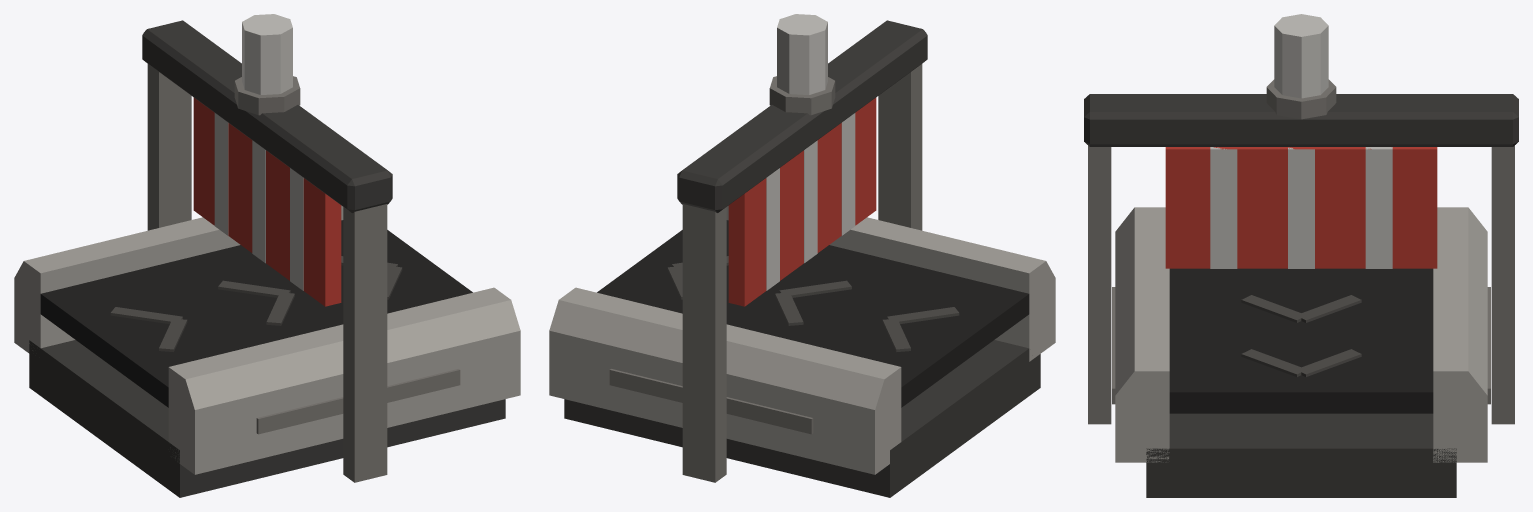
Rendered from gate.fbx.
3 views of the same model, side by side, from view 1: azimuth 30°, elevation 25°; view 2: azimuth 150°, elevation 25°; view 3: azimuth 270°, elevation 25° (orthographic). The views are drawn at different scales.
Visible parts, largest first — view 1: gate; view 2: gate; view 3: gate.
Boxes of the visible parts, x1,y1,x2,y2 form: gate: (14,14,520,497); gate: (549,14,1055,497); gate: (1084,14,1518,497).
Size of the model in its own units: 3 by 3.33 by 3.36.
